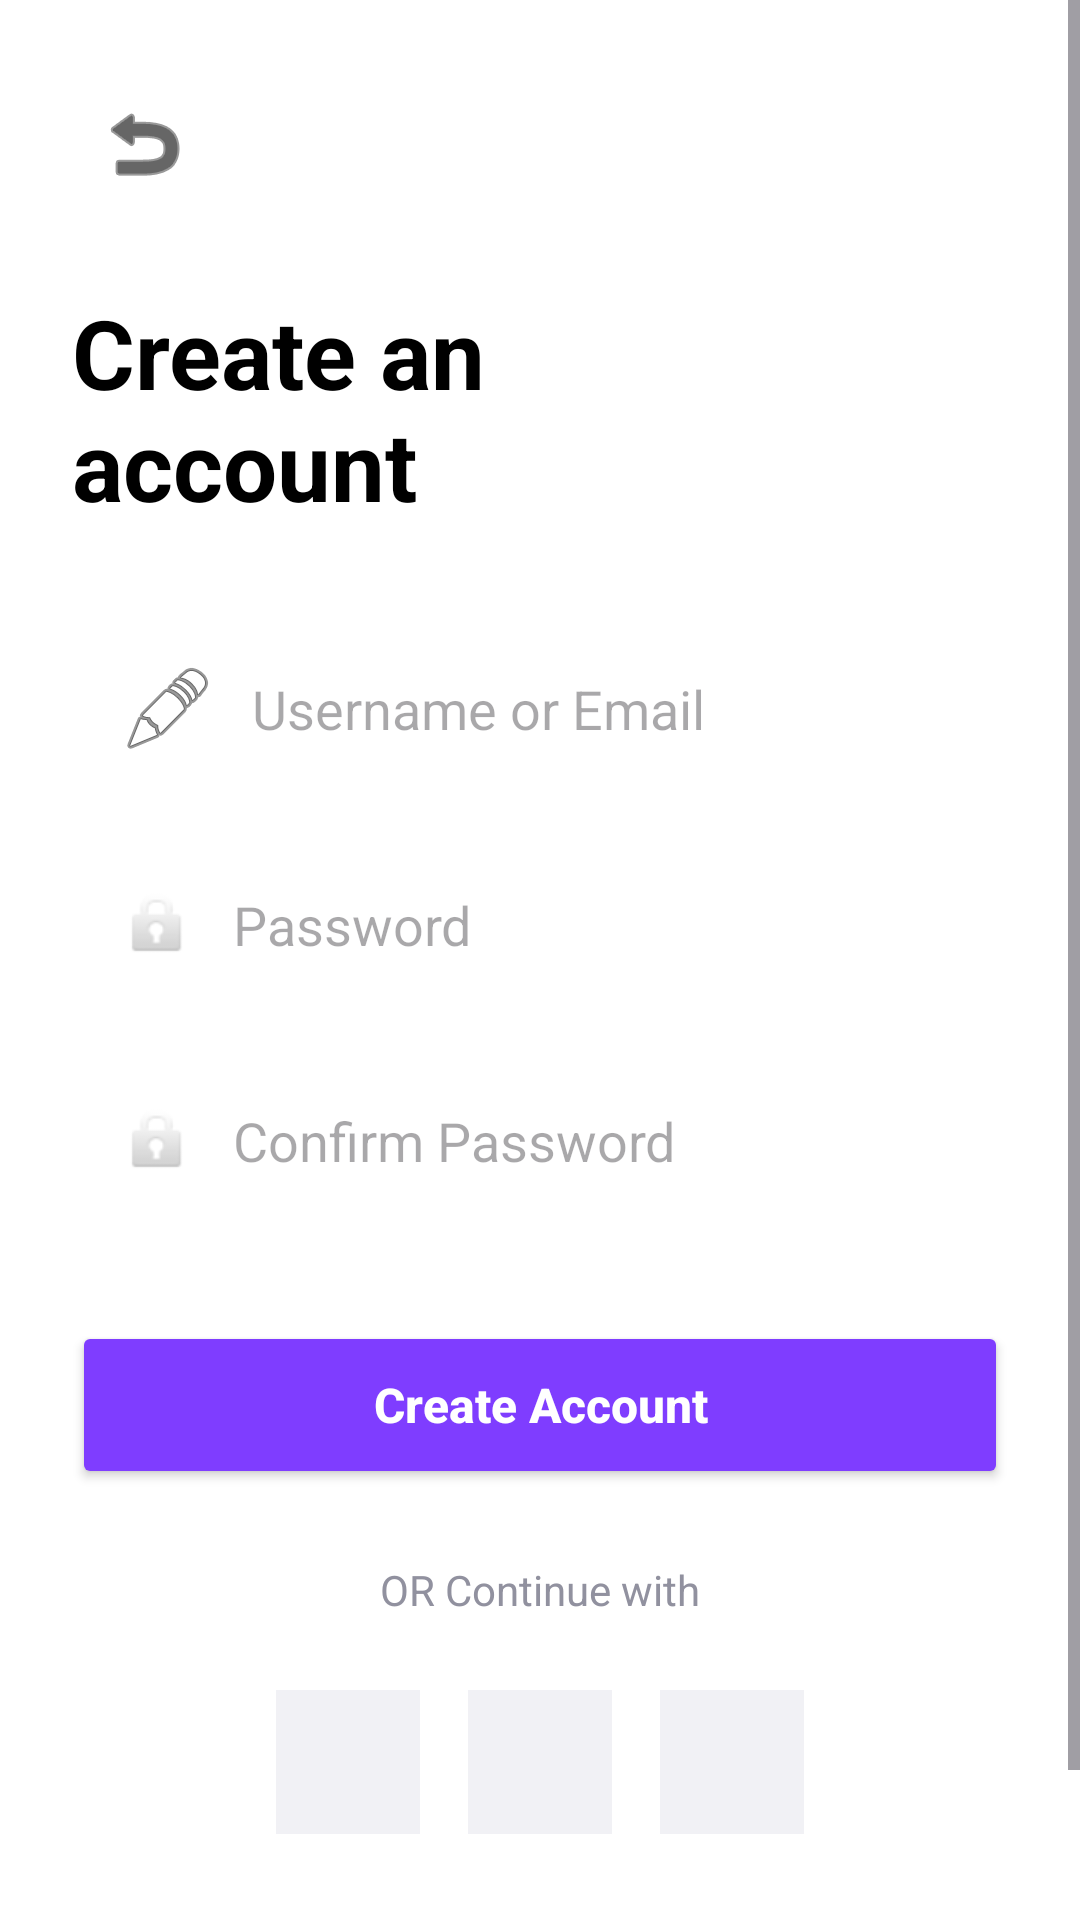

Where icons sit on this 1080px x 1920px app screen, as [x1, y1, x2, y2]:
revert: [111, 113, 180, 176]
